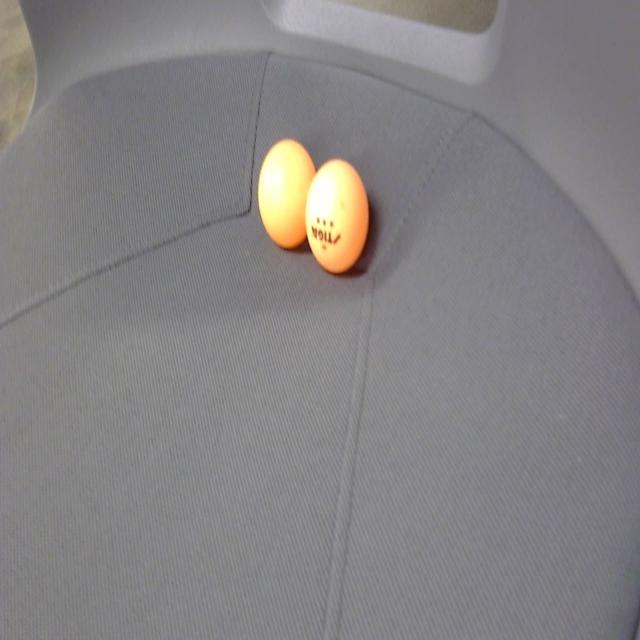ball: (306, 156, 370, 275), (257, 136, 315, 250)
